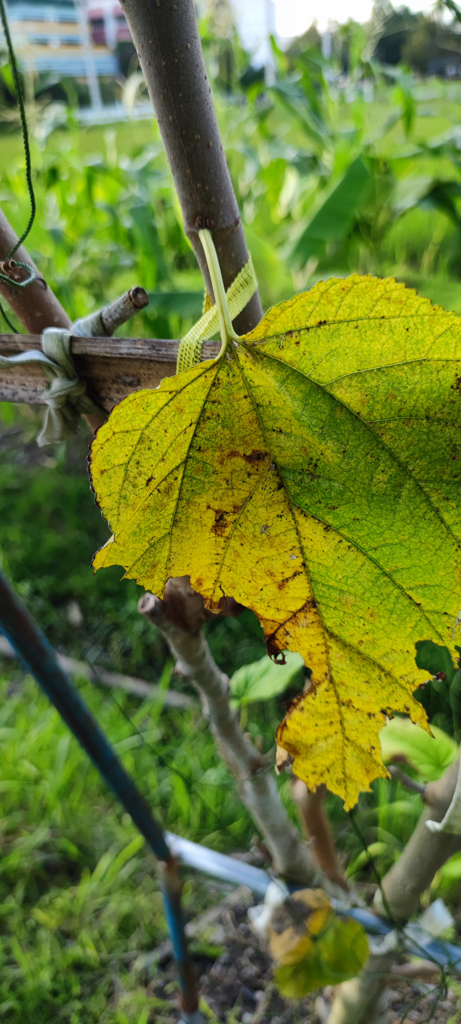Pepper yellow leaf: (96, 263, 459, 804)
